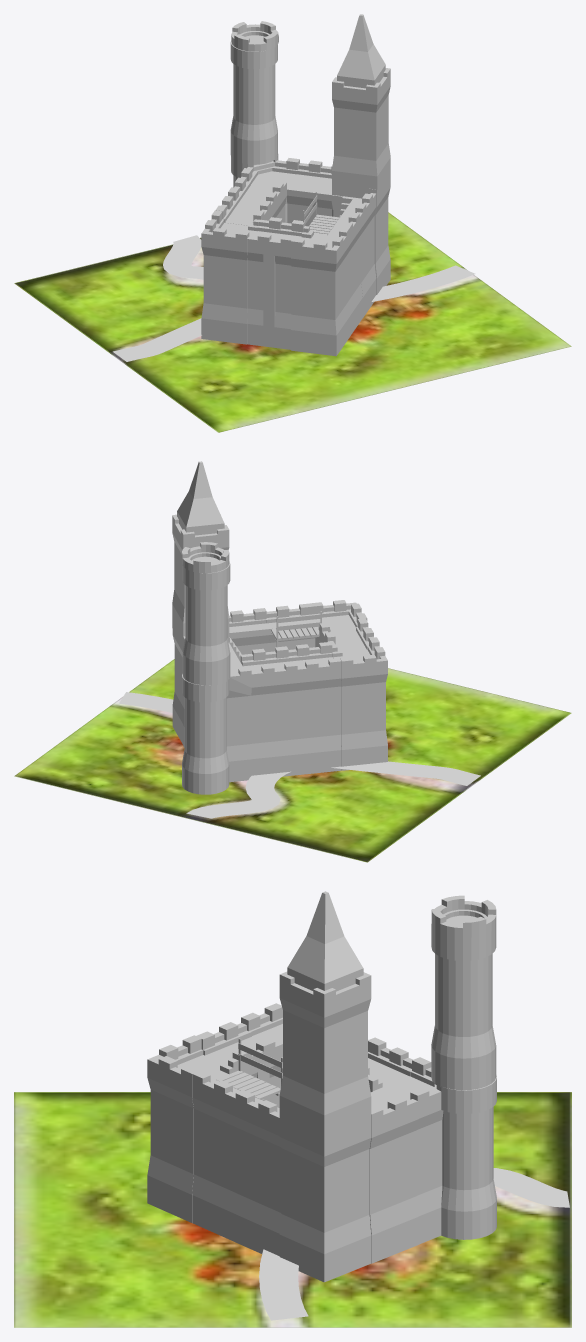
Rendered from tile17.fbx.
3 views of the same model, one above another, from view 1: azimuth 30°, elevation 25°; view 2: azimuth 150°, elevation 25°; view 3: azimuth 270°, elevation 25° (orthographic). The views are drawn at different scales.
Visible parts, largest first — view 1: tile17; view 2: tile17; view 3: tile17.
Part boxes in pixels (<box>): tile17: <box>14,14,571,432</box>; tile17: <box>14,461,571,862</box>; tile17: <box>14,891,571,1327</box>.
Size of the model in its own units: 100 by 74.22 by 100.
